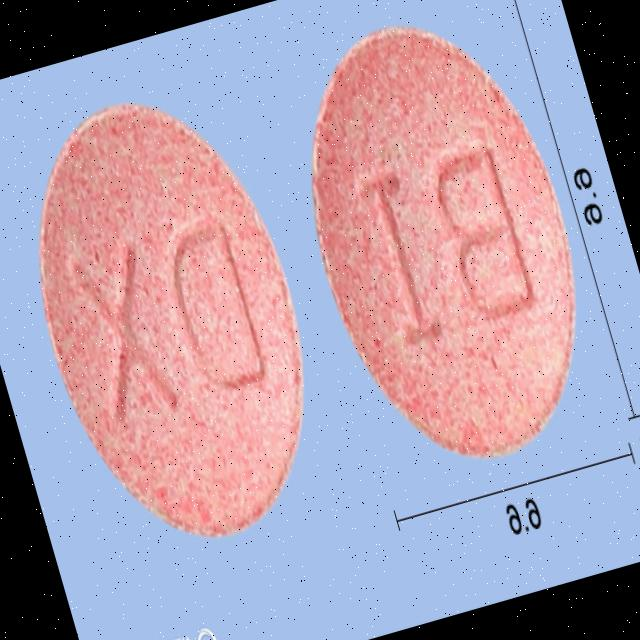Doxic: (0, 73, 349, 570), (265, 0, 620, 488)
